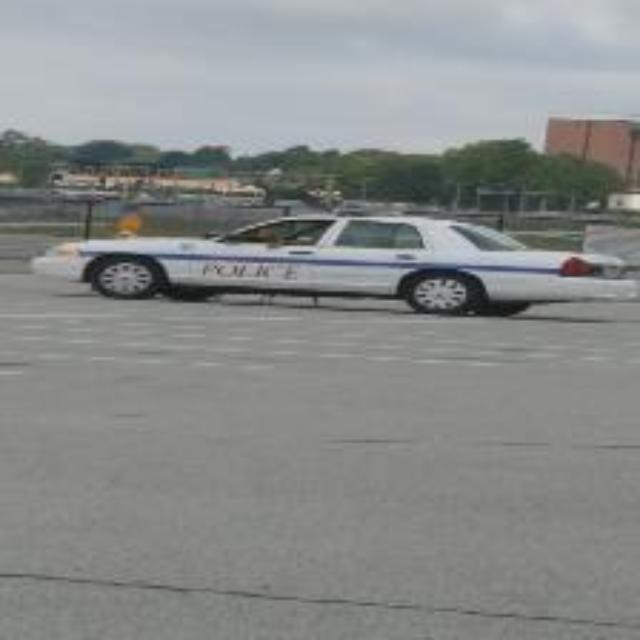emergency: (46, 198, 632, 328)
